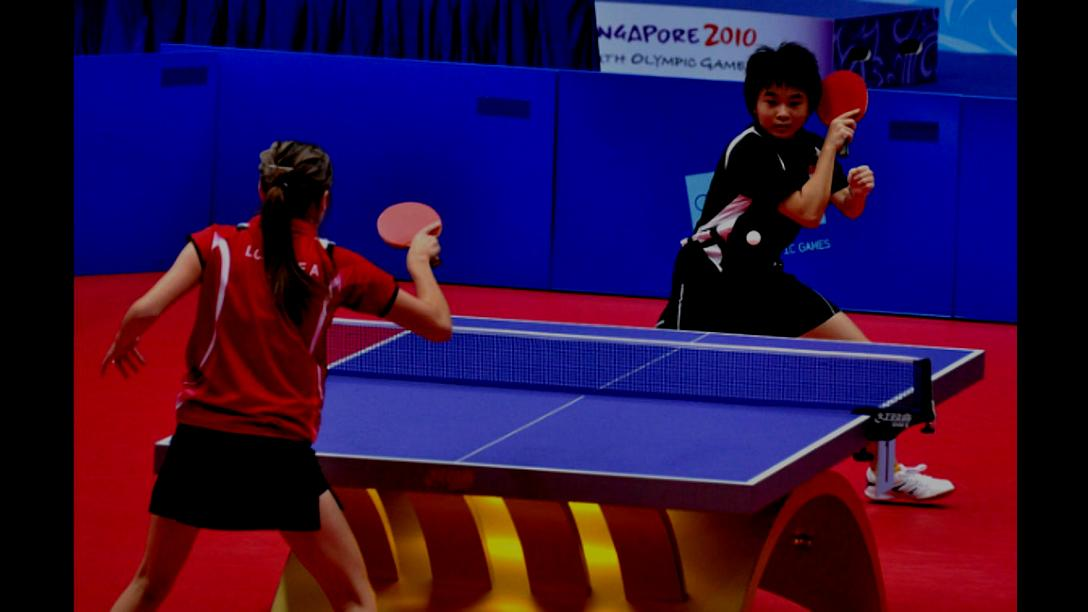Table-Tennis-Ball: (746, 231, 760, 245)
